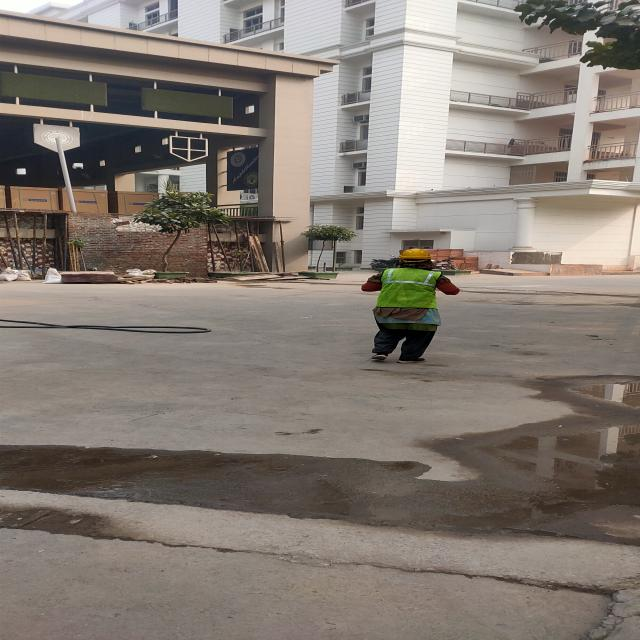safe: (364, 246, 460, 364)
